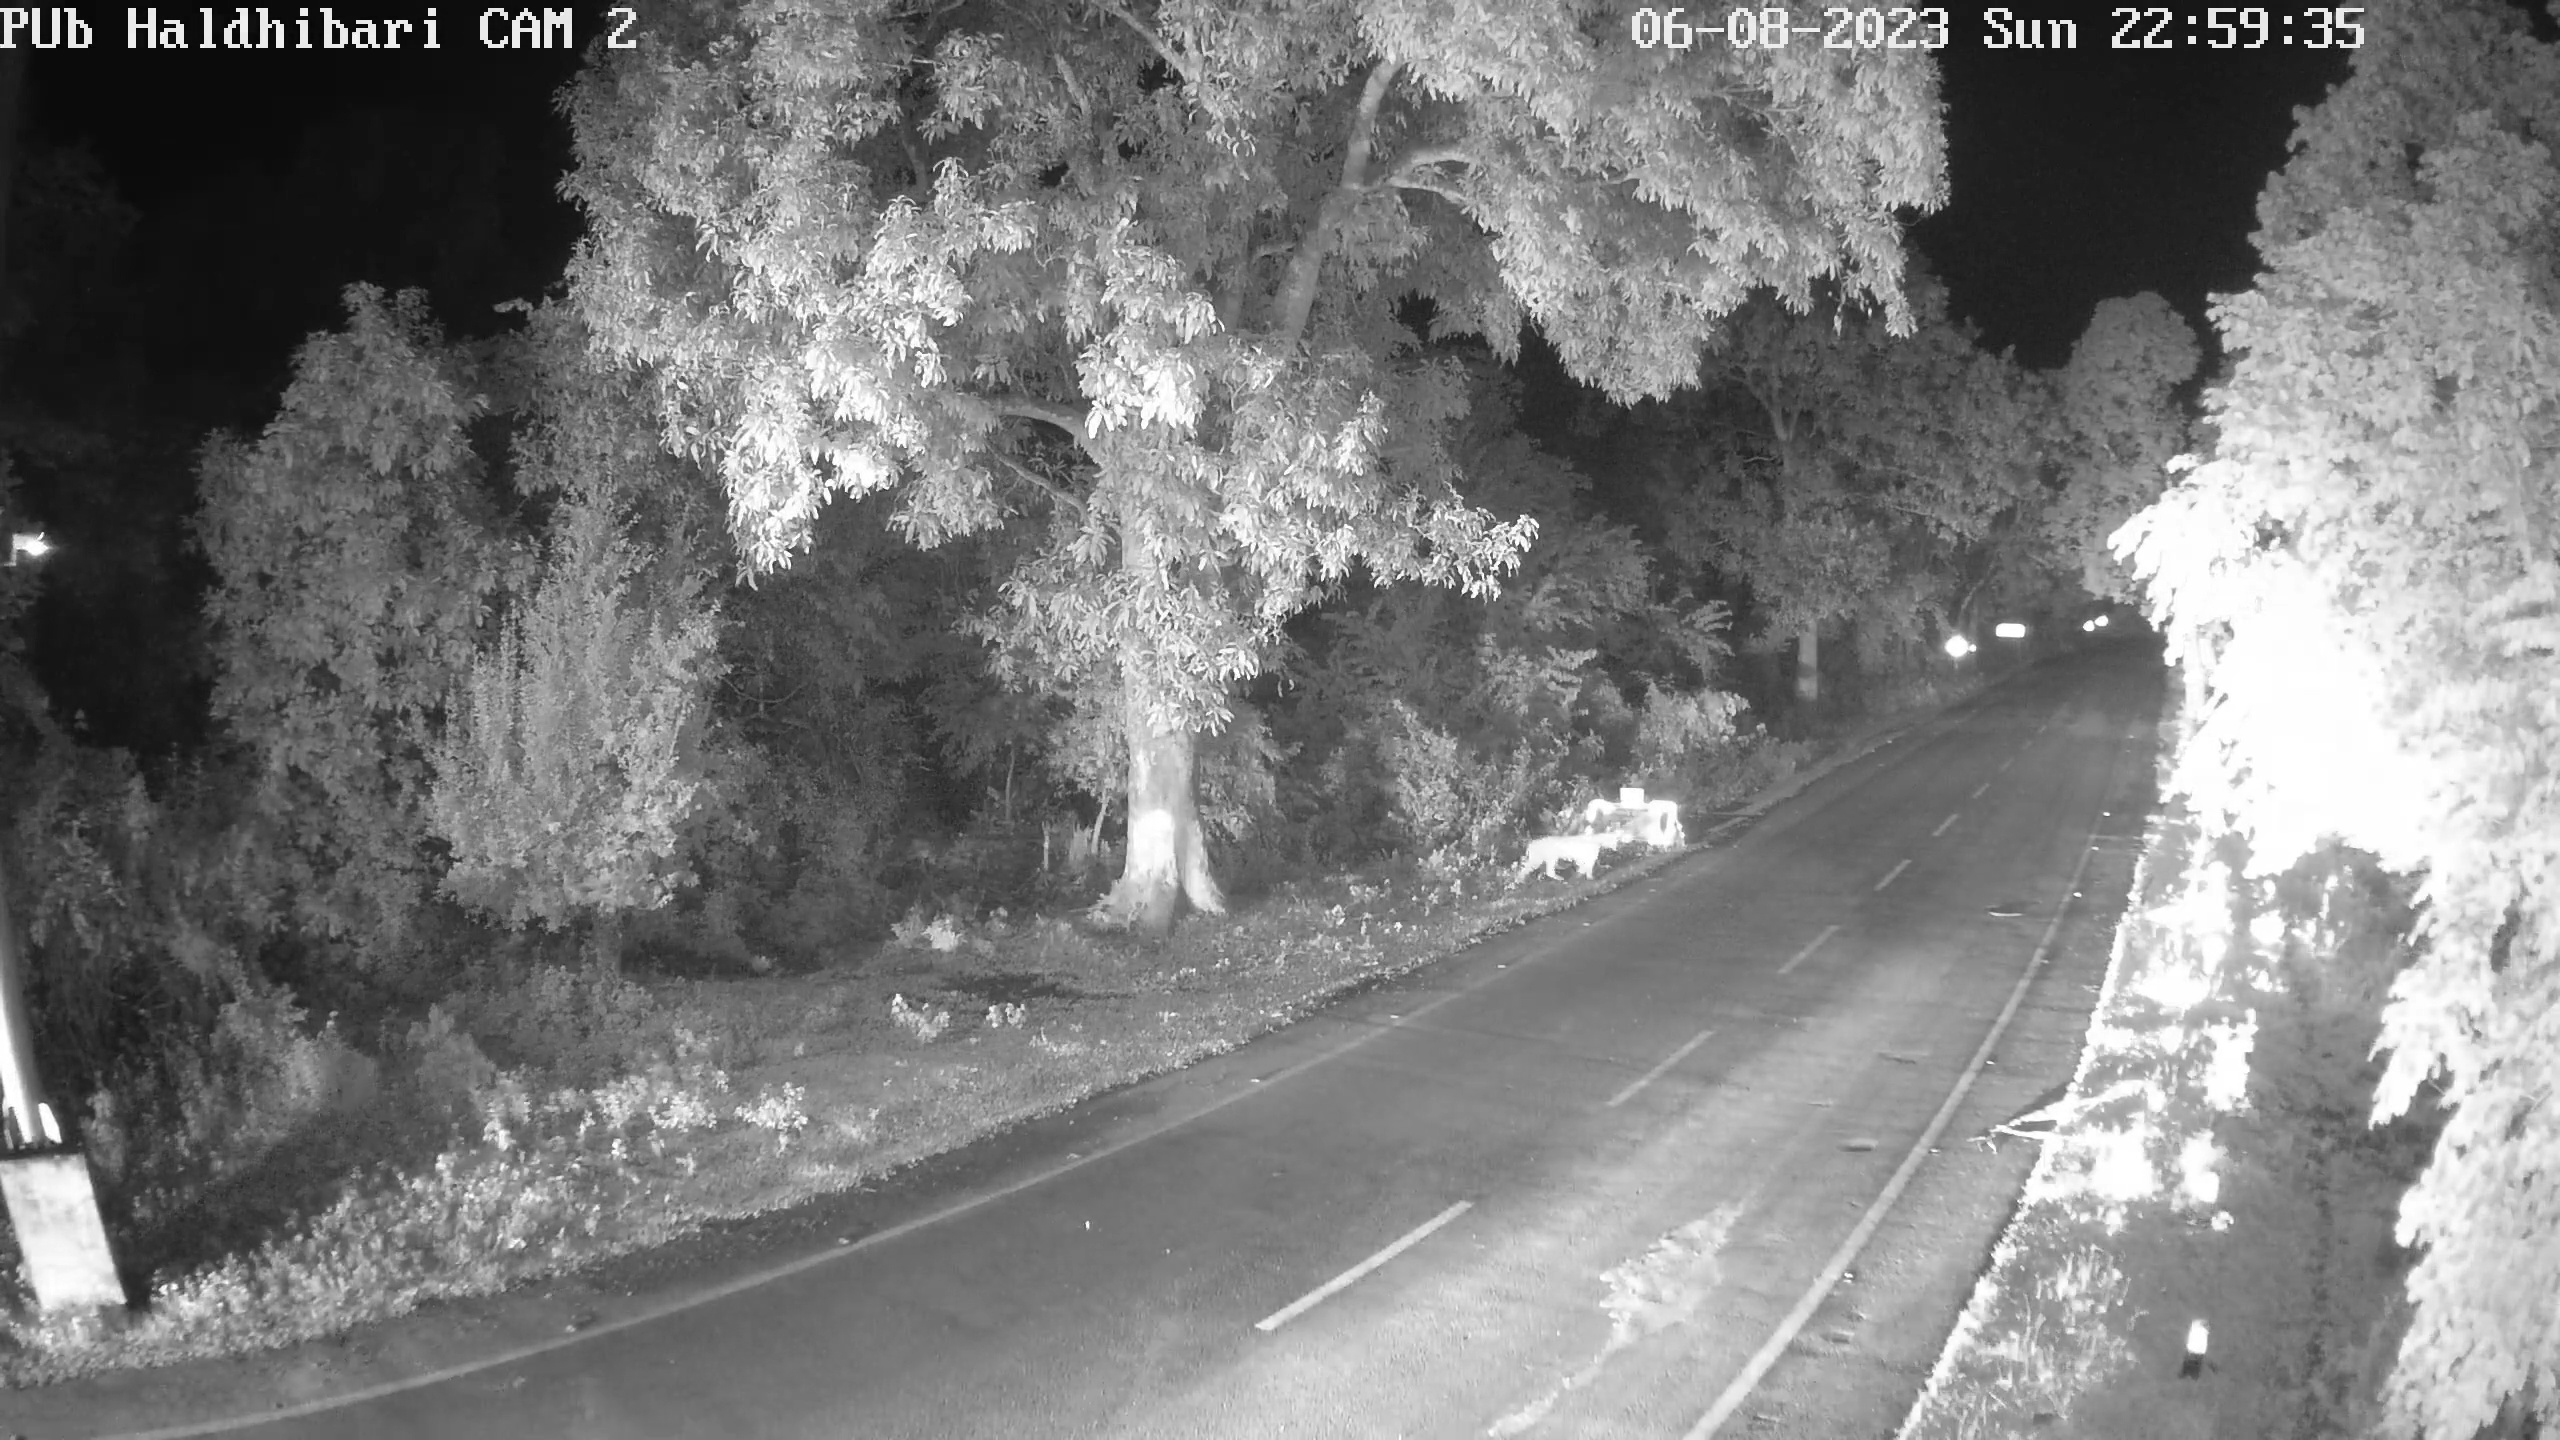tigers: (1512, 833, 1623, 874)
